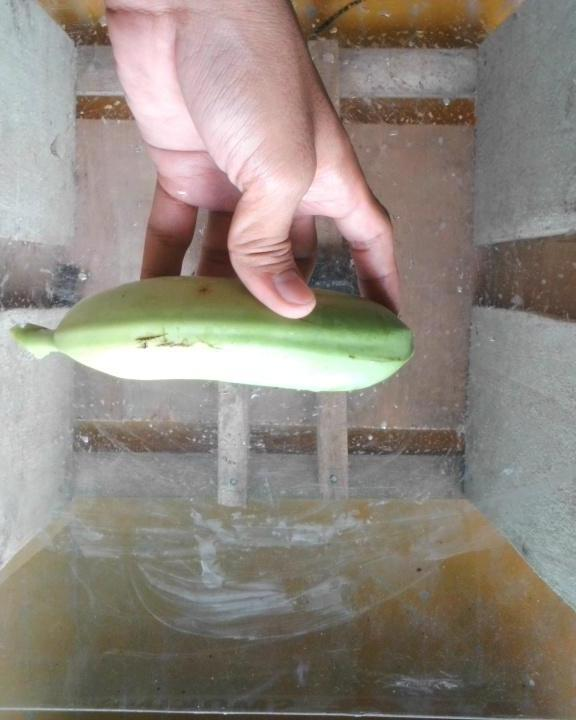CLASS B: (9, 260, 422, 409)
Class A: (129, 327, 206, 366), (189, 269, 220, 300)
